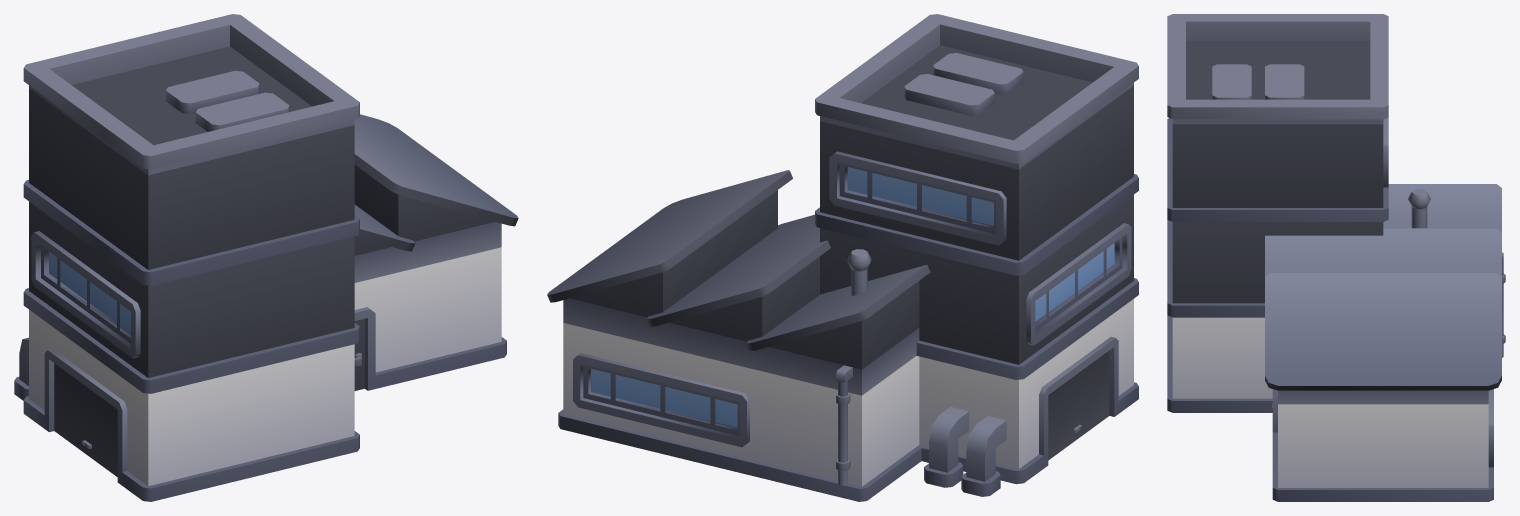
The model's file is building-g.fbx.
3 renders of one model, left to right at view 1: azimuth 30°, elevation 25°; view 2: azimuth 150°, elevation 25°; view 3: azimuth 270°, elevation 25°, orthographic. The views are drawn at different scales.
Visible parts, largest first — view 1: building-g; view 2: building-g; view 3: building-g.
Part boxes in pixels (x1,y1,x2,y2): building-g: (14, 14, 518, 501); building-g: (547, 14, 1138, 501); building-g: (1167, 14, 1505, 501).
Bounding box in the file's own units: 168 × 128 × 128.
1 material, 1 textured.
